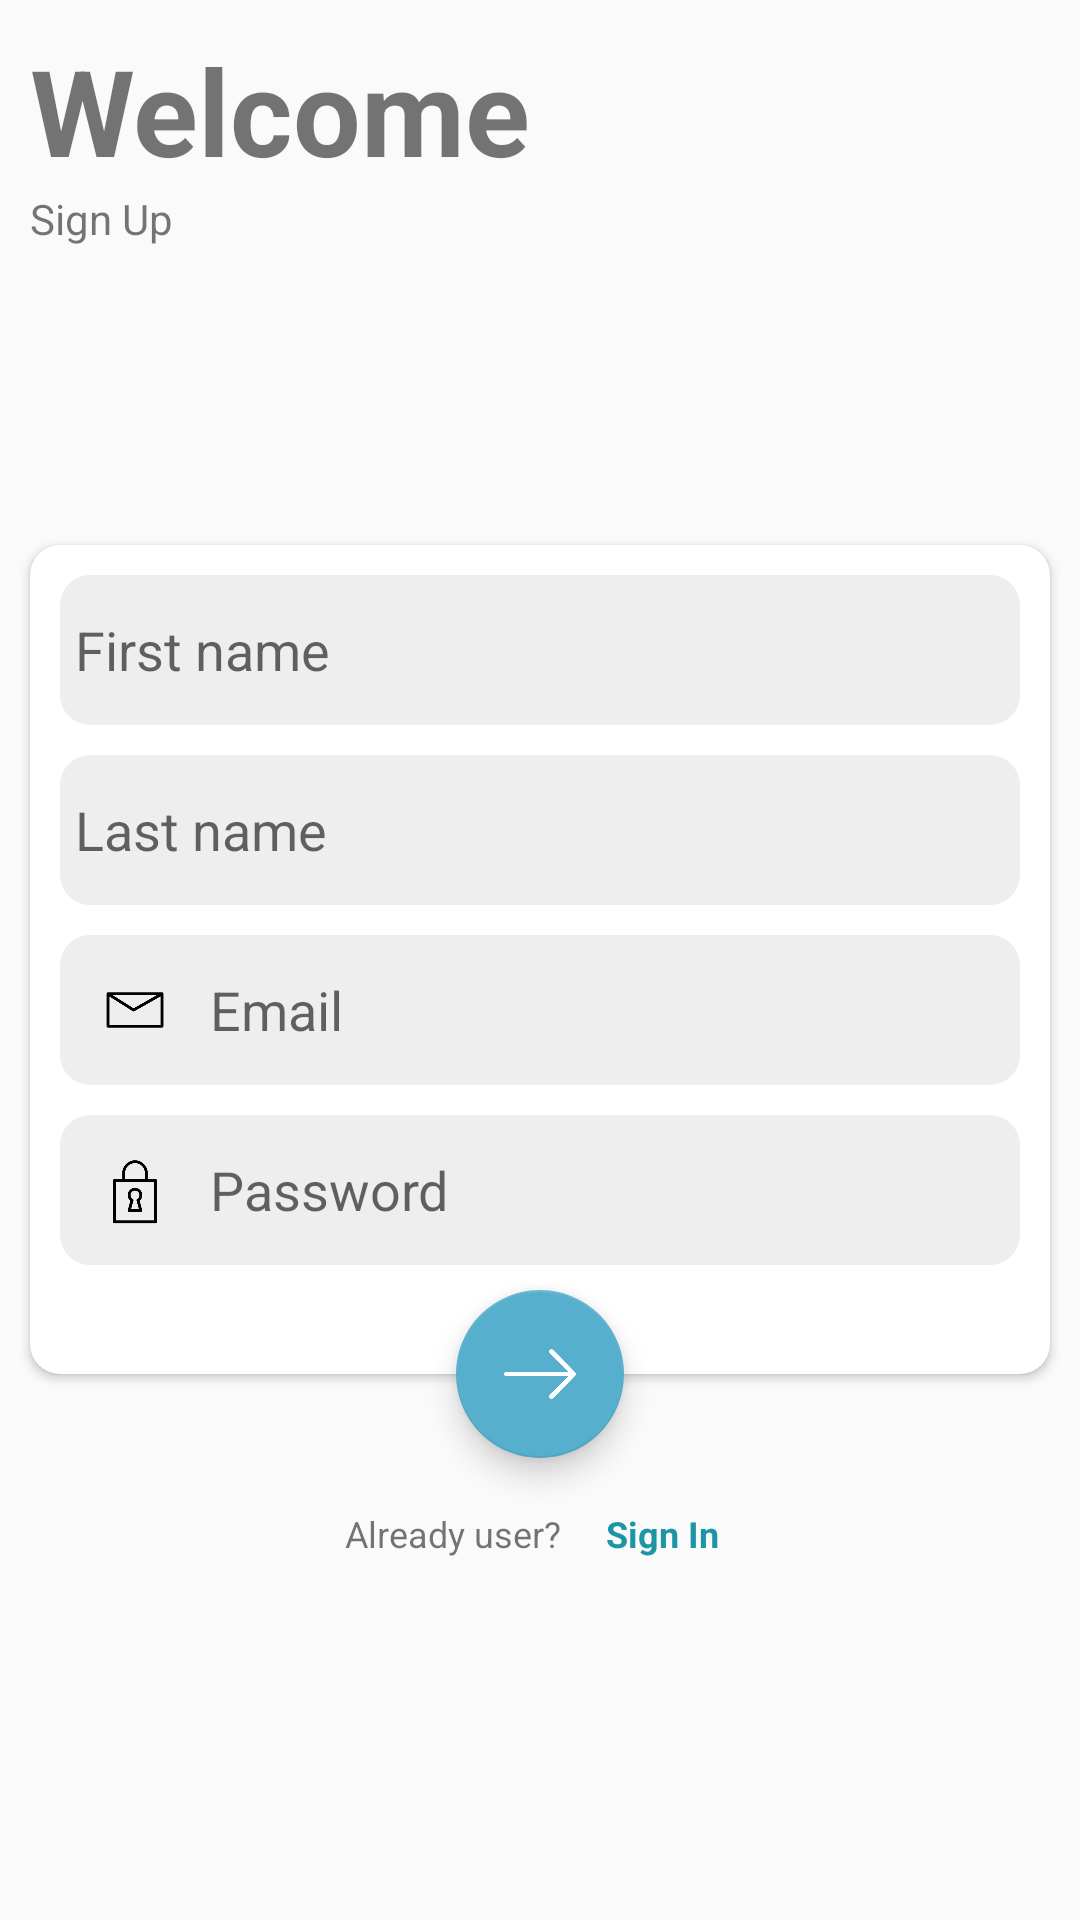

Named icons in this screenshot (1080w x 1920h) and their centers, [x,y]:
forward: [540,1374]
